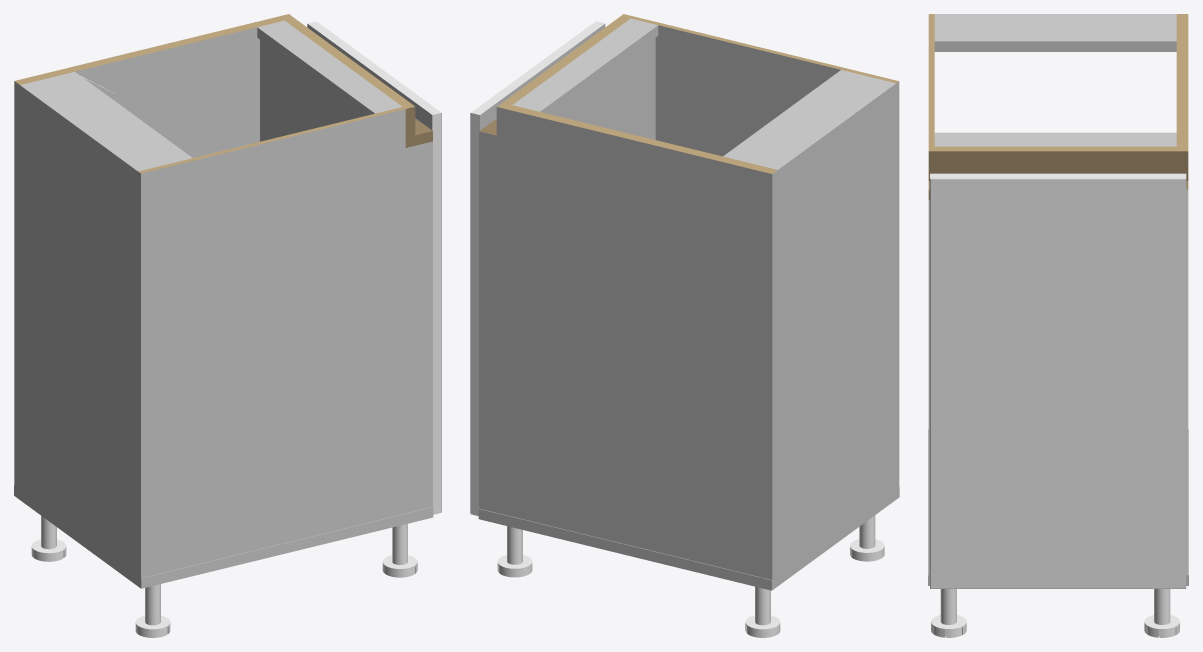
3 views of the same model, side by side, from view 1: azimuth 30°, elevation 25°; view 2: azimuth 150°, elevation 25°; view 3: azimuth 270°, elevation 25° (orthographic). The views are drawn at different scales.
Visible parts, largest first — view 1: Group1; view 2: Group1; view 3: Group1.
Boxes of the visible parts, left/top/right/bottom form: Group1: left=14, top=14, right=441, bottom=637; Group1: left=470, top=14, right=899, bottom=637; Group1: left=928, top=14, right=1188, bottom=637.
Bounding box in the file's own units: 550 × 817 × 401.
